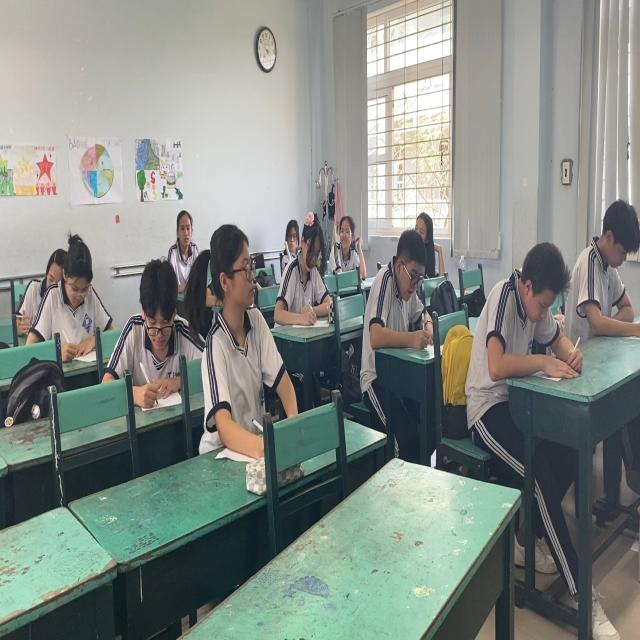not_cheating: (196, 223, 284, 444), (483, 242, 583, 388), (114, 249, 192, 394), (39, 222, 122, 351), (581, 193, 640, 344), (372, 230, 438, 344), (287, 212, 335, 322), (166, 203, 204, 286), (329, 213, 366, 269), (279, 218, 302, 259)
